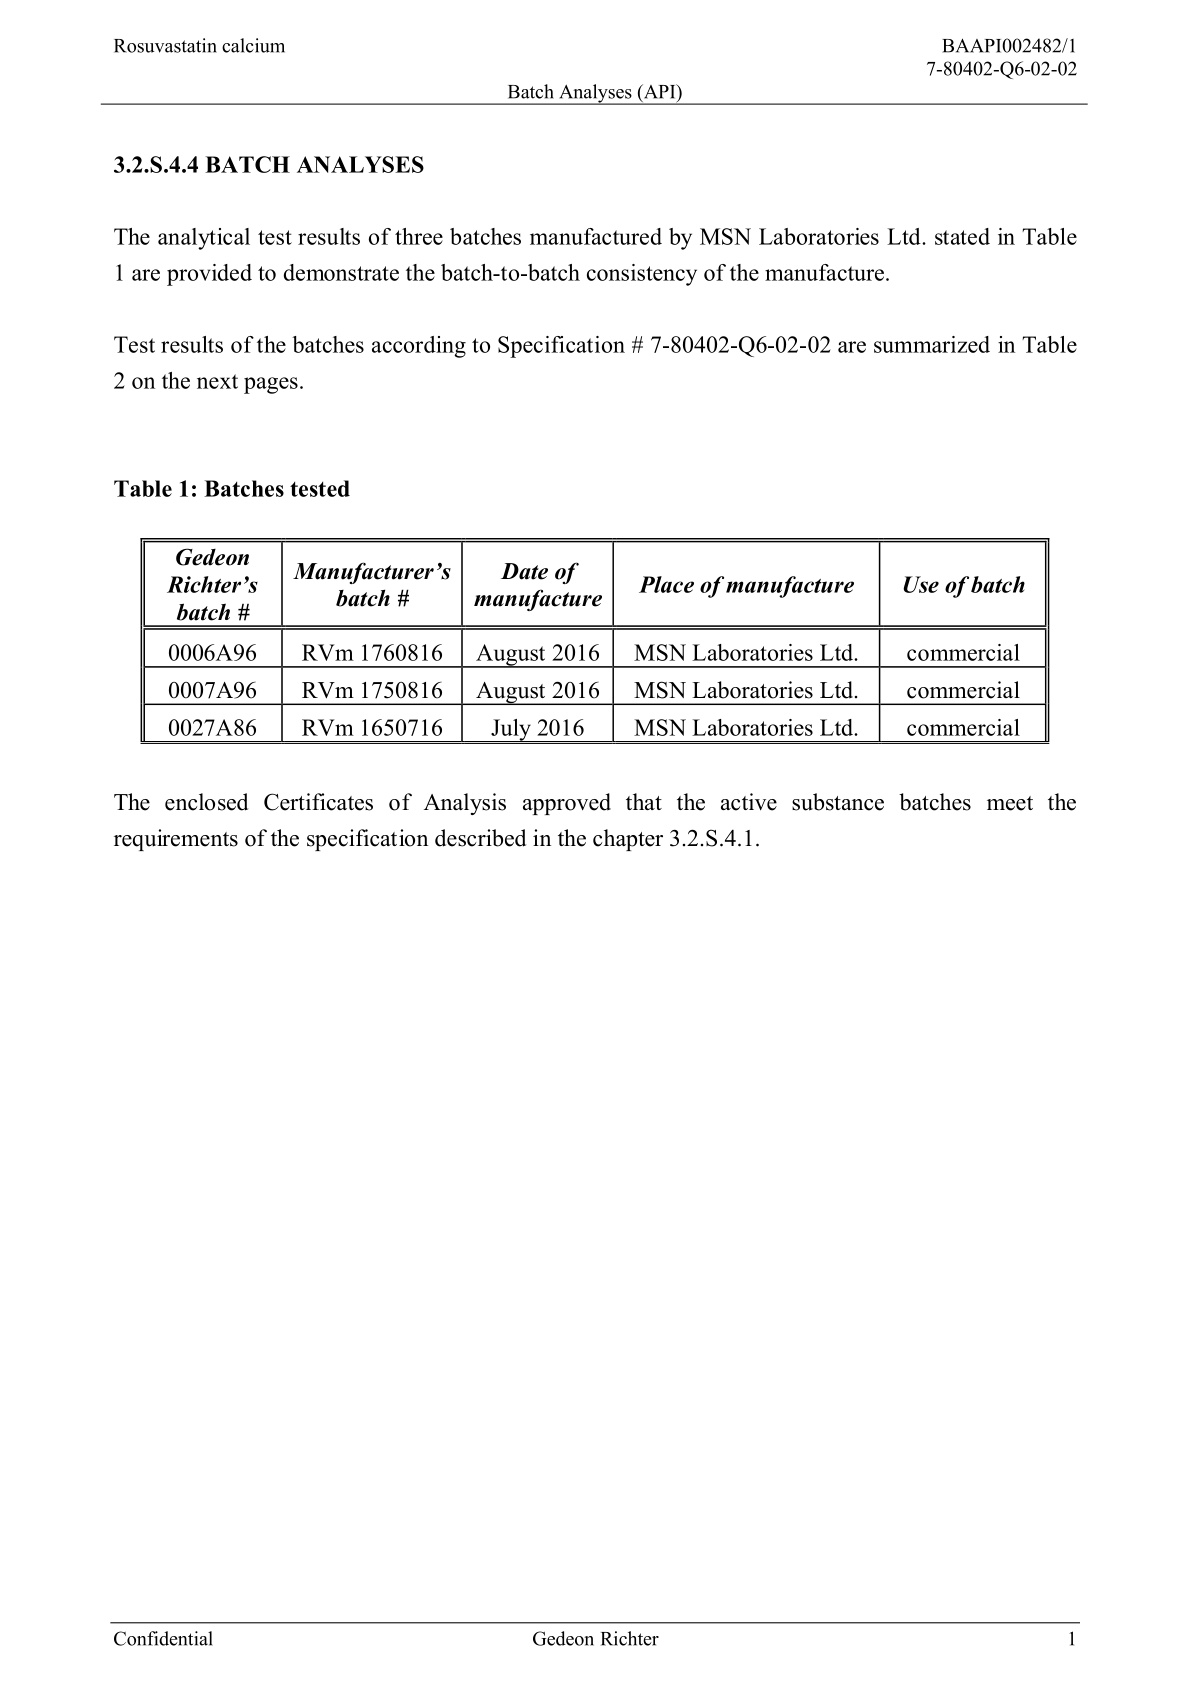full_lined: (139, 539, 1051, 746)
